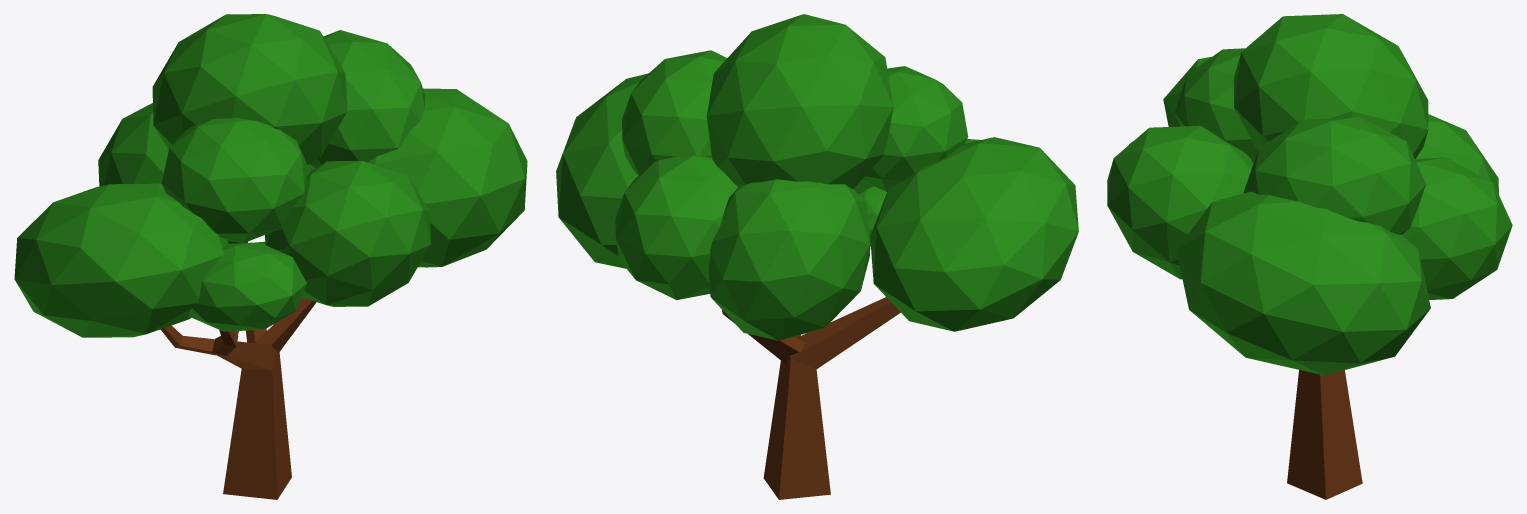
The model's file is low_poly_oak_tree.glb.
The picture shows the model from 3 angles, left to right: view 1: azimuth 30°, elevation 25°; view 2: azimuth 150°, elevation 25°; view 3: azimuth 270°, elevation 25°; orthographic projection. The views are drawn at different scales.
Visible parts, largest first — view 1: Leaves_10, Leaves_02, Leaves_06, Leaves_07, Leaves_04, trunk, Leaves_03, Leaves_05, Leaves_09; view 2: Leaves_10, Leaves_02, Leaves_09, Leaves_08, trunk, Leaves_07, Leaves_03, Leaves_04, Leaves_01; view 3: Leaves_07, Leaves_02, Leaves_03, Leaves_06, Leaves_08, trunk, Leaves_04, Leaves_09, Leaves_10.
Boxes of the visible parts, left/top/right/bottom form: Leaves_10: left=14, top=183, right=228, bottom=337; Leaves_02: left=152, top=14, right=346, bottom=164; Leaves_06: left=265, top=161, right=430, bottom=306; Leaves_07: left=368, top=88, right=527, bottom=267; Leaves_04: left=162, top=117, right=309, bottom=243; trunk: left=160, top=297, right=316, bottom=499; Leaves_03: left=307, top=30, right=424, bottom=170; Leaves_05: left=189, top=242, right=306, bottom=331; Leaves_09: left=98, top=103, right=248, bottom=243; Leaves_10: left=870, top=137, right=1078, bottom=331; Leaves_02: left=706, top=14, right=893, bottom=188; Leaves_09: left=709, top=179, right=870, bottom=340; Leaves_08: left=615, top=155, right=738, bottom=299; trunk: left=722, top=297, right=900, bottom=499; Leaves_07: left=556, top=73, right=648, bottom=268; Leaves_03: left=622, top=50, right=726, bottom=175; Leaves_04: left=861, top=66, right=968, bottom=191; Leaves_01: left=859, top=186, right=886, bottom=246; Leaves_07: left=1176, top=191, right=1430, bottom=375; Leaves_02: left=1234, top=14, right=1428, bottom=158; Leaves_03: left=1243, top=116, right=1425, bottom=234; Leaves_06: left=1107, top=125, right=1253, bottom=279; Leaves_08: left=1402, top=157, right=1512, bottom=299; trunk: left=1287, top=370, right=1362, bottom=499; Leaves_04: left=1175, top=48, right=1257, bottom=162; Leaves_09: left=1416, top=114, right=1498, bottom=194; Leaves_10: left=1163, top=57, right=1211, bottom=126.
Bounding box in the file's own units: 1.66 × 1.53 × 1.22.
